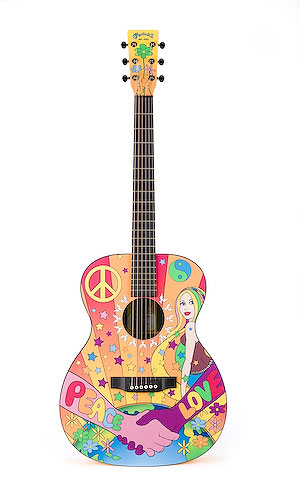guitar: (58, 26, 233, 469)
